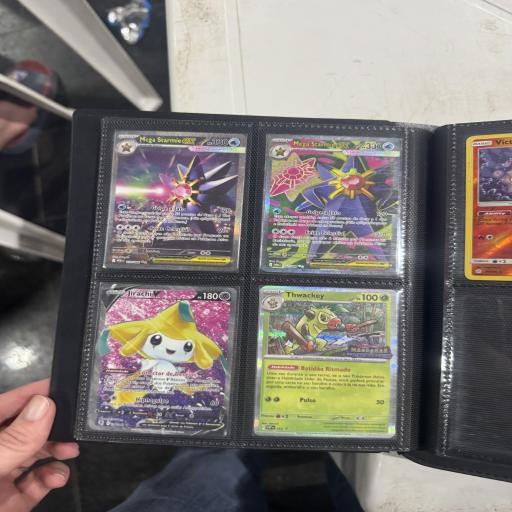card: (88, 280, 237, 438), (253, 285, 400, 438), (103, 130, 247, 272), (261, 133, 402, 276)
